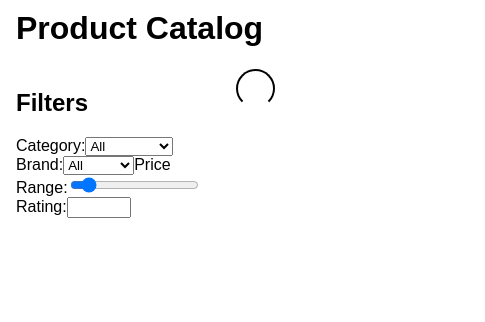
Product Catalog › filters products by brand
Select "Brand A" in the dropdown labelled "Brand:": x=99, y=165 [63, 156, 134, 175]
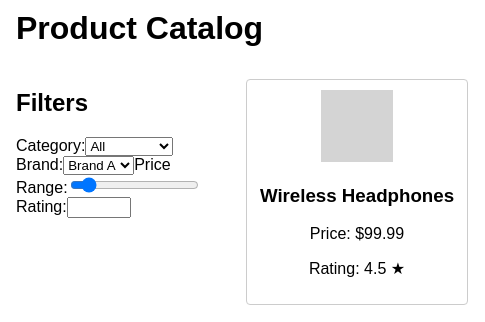
Expected: the heading "Wireless Headphones" is shown, [257, 185, 457, 207]
